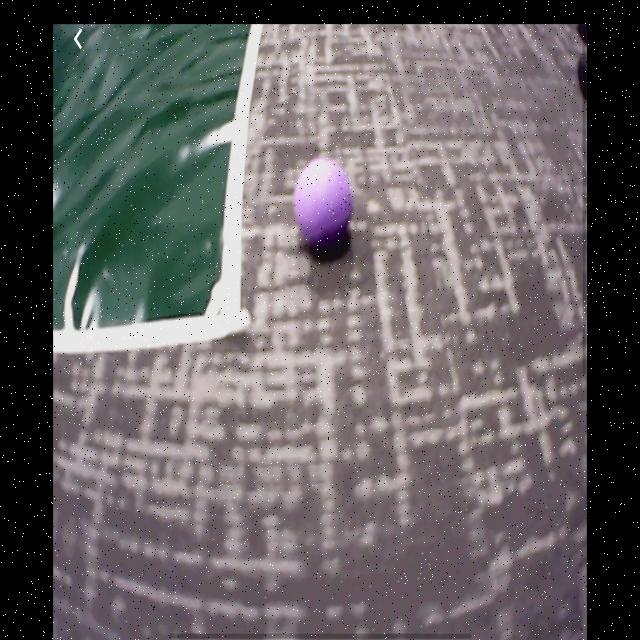ball: (295, 160, 351, 243)
